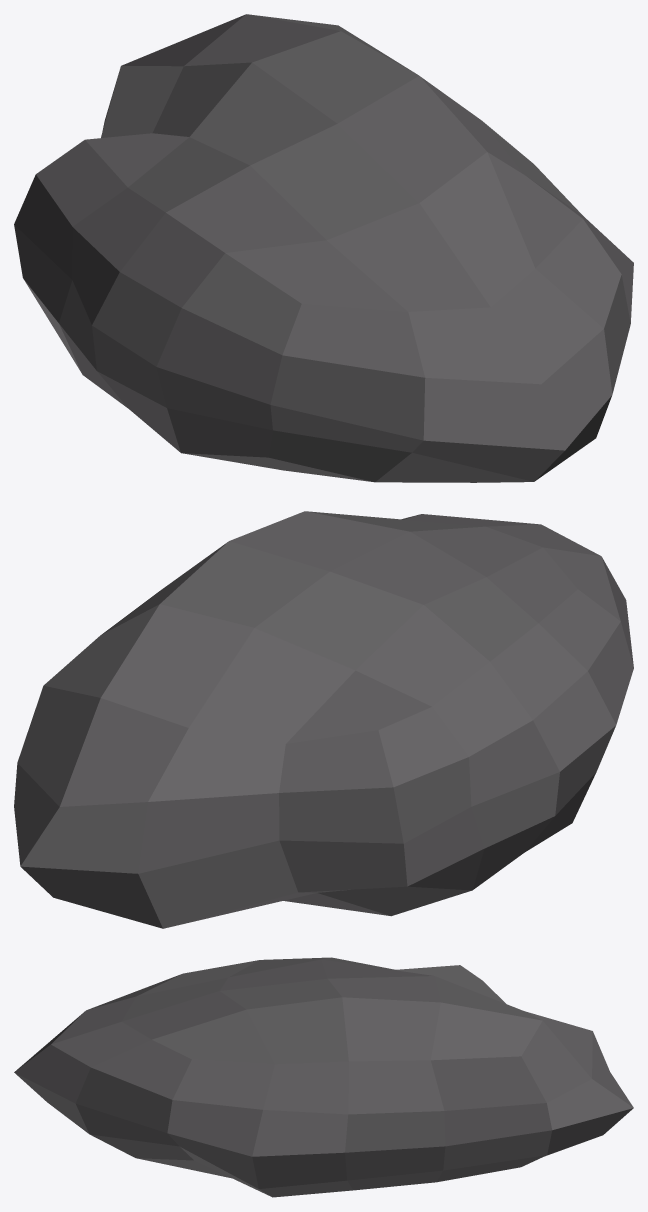
Rendered from Rock01.fbx.
3 views of the same model, one above another, from view 1: azimuth 30°, elevation 25°; view 2: azimuth 150°, elevation 25°; view 3: azimuth 270°, elevation 25° (orthographic). The views are drawn at different scales.
Visible parts, largest first — view 1: Rock01; view 2: Rock01; view 3: Rock01.
Boxes of the visible parts, x1,y1,x2,y2 form: Rock01: [14, 14, 633, 482]; Rock01: [14, 511, 633, 928]; Rock01: [14, 957, 633, 1197].
Bounding box in the file's own units: 140 × 82.35 × 238.
